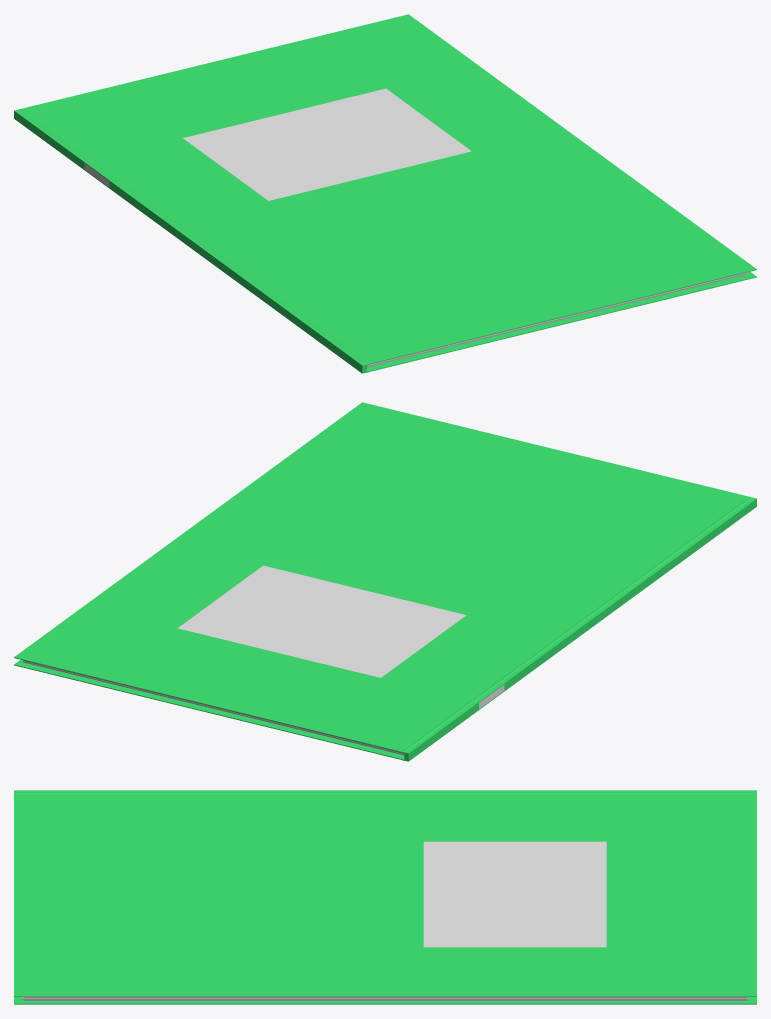
File: Book_4.fbx
3 renders of one model, top to bottom at view 1: azimuth 30°, elevation 25°; view 2: azimuth 150°, elevation 25°; view 3: azimuth 270°, elevation 25°, orthographic. The views are drawn at different scales.
Visible parts, largest first — view 1: Book_4; view 2: Book_4; view 3: Book_4.
Part boxes in pixels (x1=…): Book_4: x1=14, y1=14, x2=756, y2=373; Book_4: x1=14, y1=402, x2=756, y2=761; Book_4: x1=14, y1=790, x2=756, y2=1004.
Bounding box in the file's own units: 77.03 × 1.62 × 118.
